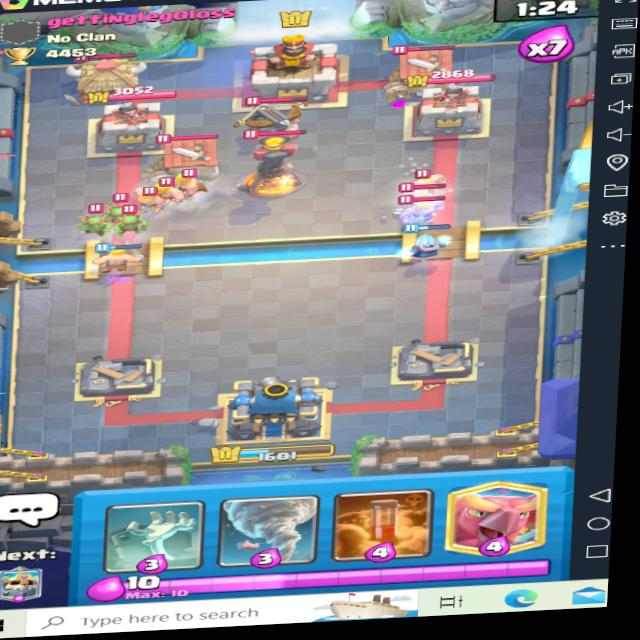barbarian: (401, 194, 453, 221), (167, 165, 211, 196), (149, 175, 191, 206), (127, 180, 165, 212), (397, 181, 452, 202), (403, 165, 449, 190)
barbarian-hut: (386, 40, 463, 96), (149, 128, 226, 184)
goblin-hut: (66, 47, 143, 101)
inferno-tower: (241, 125, 312, 196)
spear-goblin: (96, 192, 136, 221), (117, 209, 148, 239), (80, 211, 113, 235)
x-bow: (223, 86, 317, 149)
